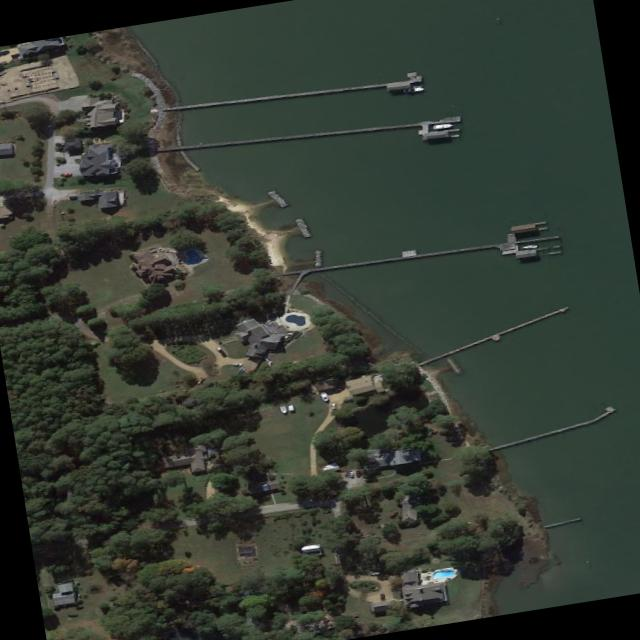ship: (432, 121, 459, 131), (403, 84, 427, 95), (521, 242, 542, 250), (277, 404, 290, 415), (320, 391, 332, 402), (288, 404, 298, 412)
small-vehicle: (330, 400, 340, 411), (230, 361, 244, 367), (62, 172, 74, 177)
